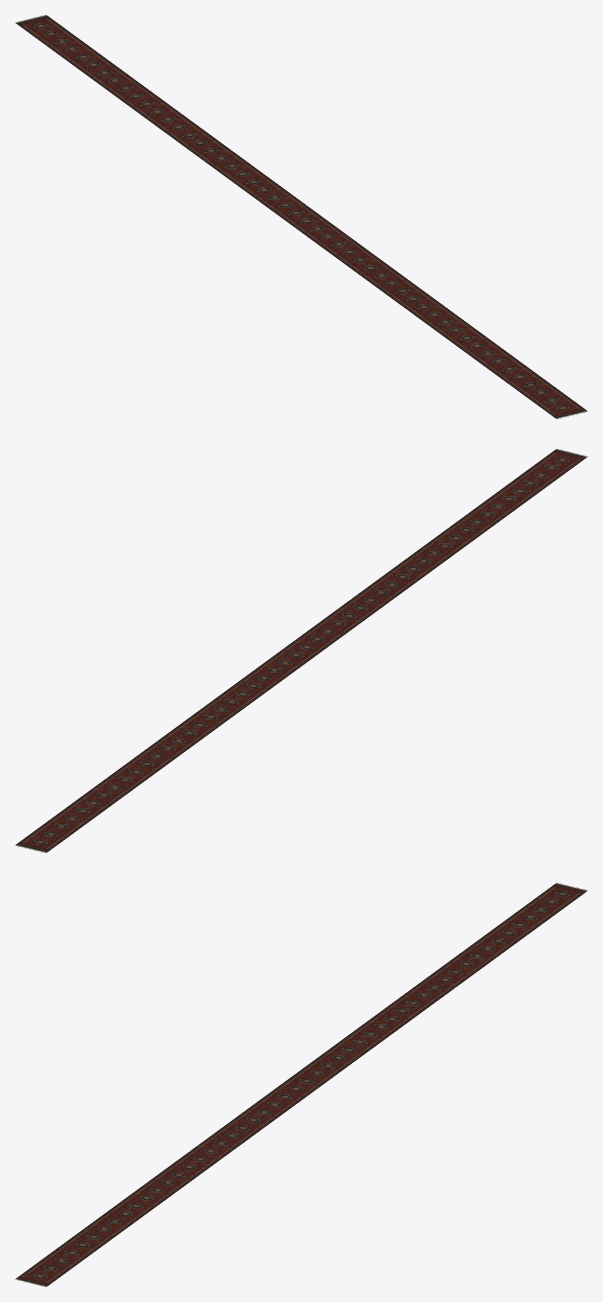
File: Atmos_Runner_Long.fbx
3 renders of one model, top to bottom at view 1: azimuth 30°, elevation 25°; view 2: azimuth 150°, elevation 25°; view 3: azimuth 330°, elevation 25°, orthographic.
Parts seen in each view (by area): view 1: Atmos_Runner_Long; view 2: Atmos_Runner_Long; view 3: Atmos_Runner_Long.
Boxes of the visible parts, <box> form: Atmos_Runner_Long: <box>15,15,587,418</box>; Atmos_Runner_Long: <box>15,449,587,852</box>; Atmos_Runner_Long: <box>15,883,587,1286</box>.
Bounding box in the file's own units: 180 × 0 × 5344.
1 material, 1 textured.
